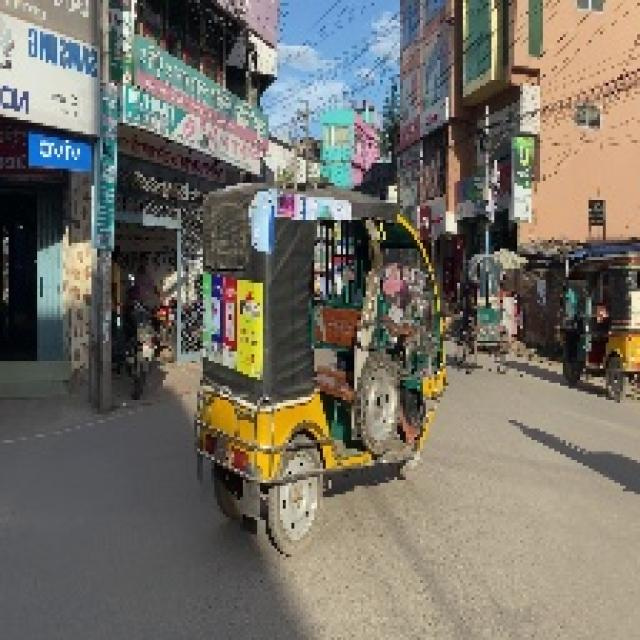rickshaw: (198, 175, 441, 538), (554, 236, 638, 396), (461, 237, 511, 387)
